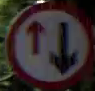Two way: (6, 2, 94, 89)
